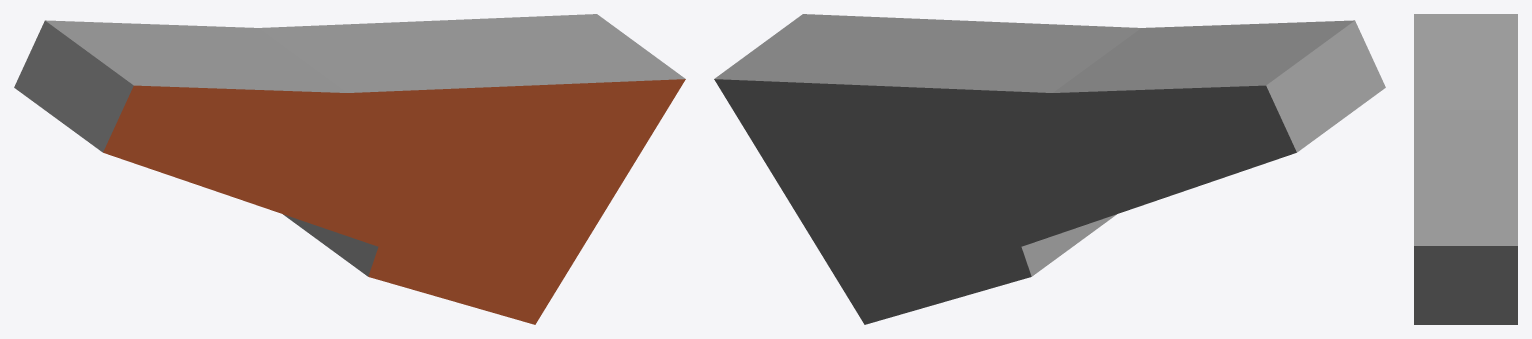
Rendered from construction_3415_assumed_A_Casa_h6m.obj.
The picture shows the model from 3 angles, left to right: view 1: azimuth 30°, elevation 25°; view 2: azimuth 150°, elevation 25°; view 3: azimuth 270°, elevation 25°; orthographic projection. The views are drawn at different scales.
Parts seen in each view (by area): view 1: construction_3415_assumed_A_Casa; view 2: construction_3415_assumed_A_Casa; view 3: construction_3415_assumed_A_Casa.
Boxes of the visible parts, bbox=[...] form: construction_3415_assumed_A_Casa: bbox=[14, 14, 685, 324]; construction_3415_assumed_A_Casa: bbox=[714, 14, 1385, 324]; construction_3415_assumed_A_Casa: bbox=[1414, 14, 1517, 324].
Size of the model in its own units: 22.7 by 12.56 by 6.
